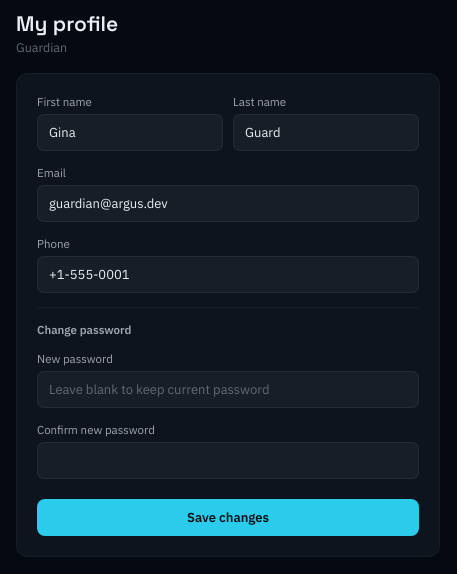
Scenario: Profile › saves an edited phone number via PUT /api/auth/me
The image size is (457, 574).
Replace the text in the field labelled "Phone" with "+1-555-9999" at (228, 274), box [37,256,419,293]
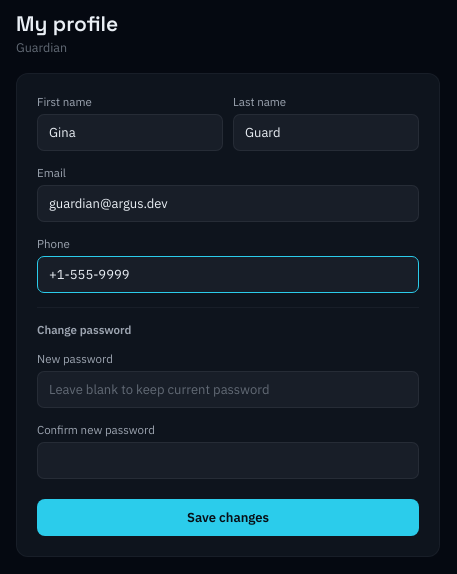
Click the button "Save changes" at (228, 518), box [37,499,419,536]
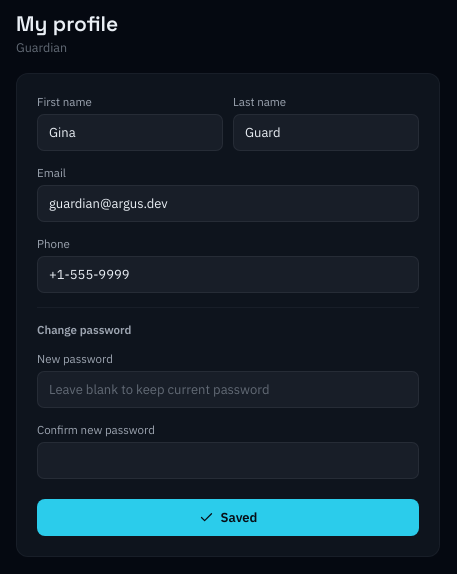
Expected: the button "Saved" is shown, [37,499,419,536]
